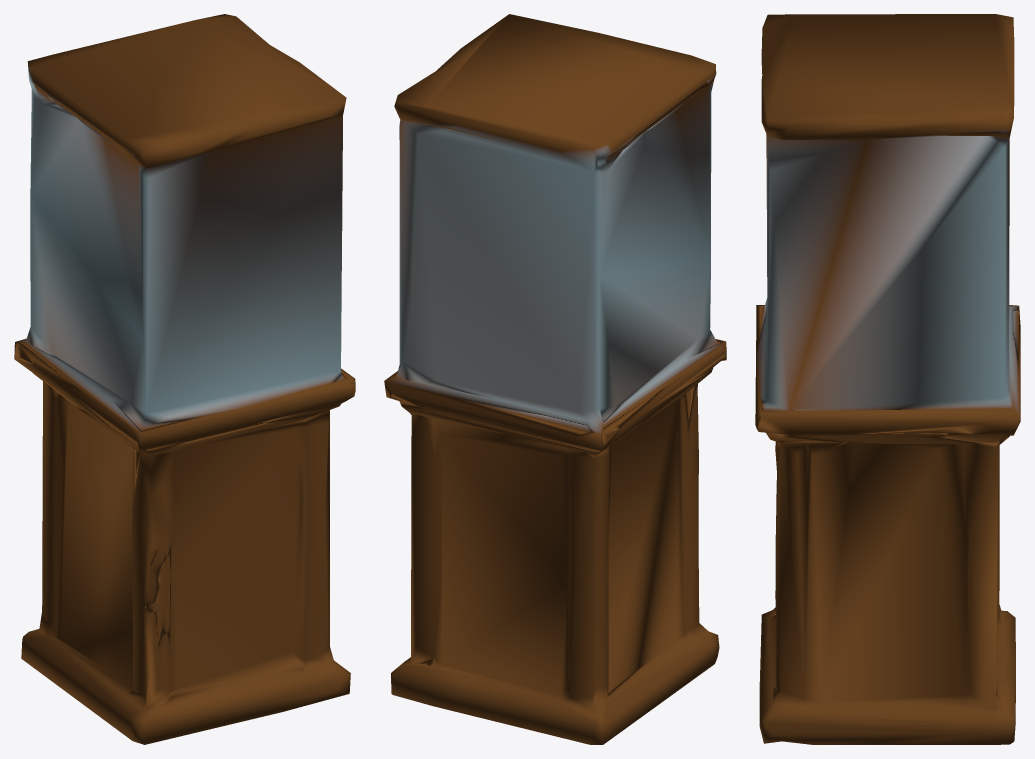
The model's file is gen3d-display-case-lod1.glb.
3 renders of one model, left to right at view 1: azimuth 30°, elevation 25°; view 2: azimuth 150°, elevation 25°; view 3: azimuth 270°, elevation 25°, orthographic. The views are drawn at different scales.
Visible parts, largest first — view 1: part_0; view 2: part_0; view 3: part_0.
Boxes of the visible parts, x1,y1,x2,y2 form: part_0: (14,14,355,744); part_0: (384,14,726,744); part_0: (755,14,1020,744).
Size of the model in its own units: 0.3843 by 0.9999 by 0.3845.
